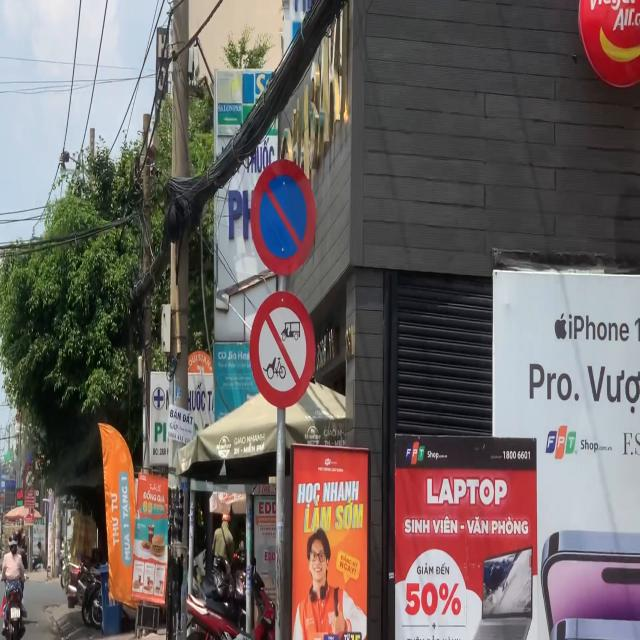Cam con lai: (250, 290, 316, 408)
Cam do: (250, 154, 318, 279)
